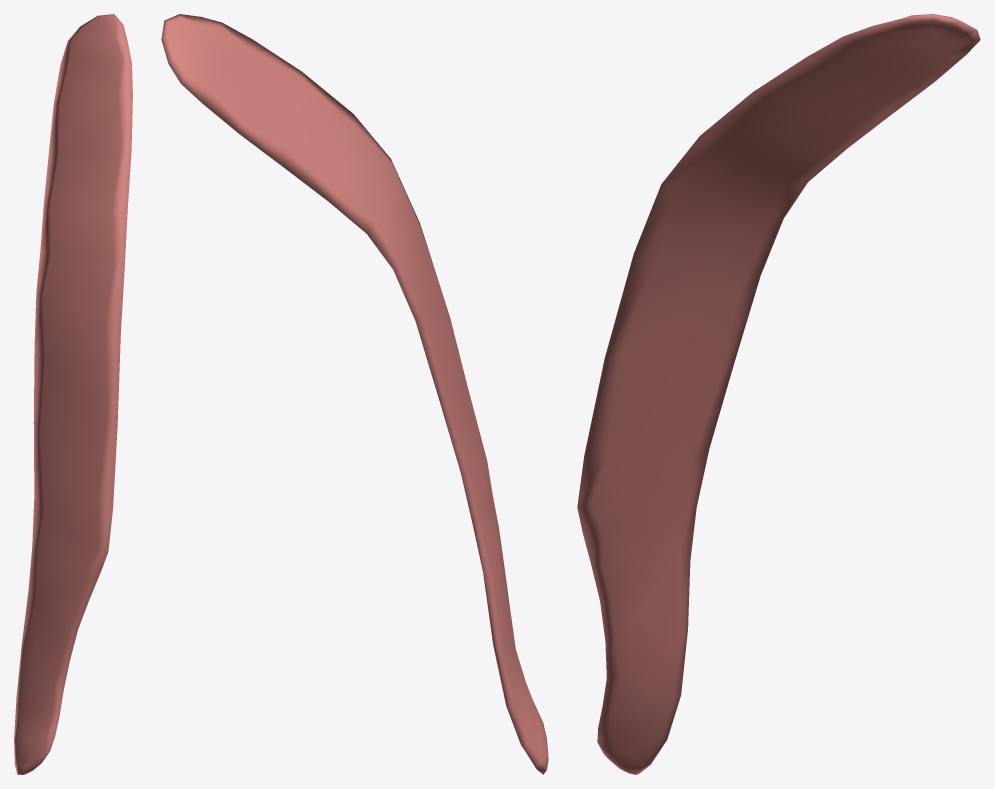
3 views of the same model, side by side, from view 1: azimuth 30°, elevation 25°; view 2: azimuth 150°, elevation 25°; view 3: azimuth 270°, elevation 25° (orthographic). The views are drawn at different scales.
Visible parts, largest first — view 1: ZA_3c445cac686b4030; view 2: ZA_3c445cac686b4030; view 3: ZA_3c445cac686b4030.
Boxes of the visible parts, left/top/right/bottom form: ZA_3c445cac686b4030: left=14, top=14, right=132, bottom=774; ZA_3c445cac686b4030: left=161, top=14, right=548, bottom=774; ZA_3c445cac686b4030: left=577, top=14, right=980, bottom=774.
Size of the model in its own units: 0.0121 by 0.0362 by 0.0148.
